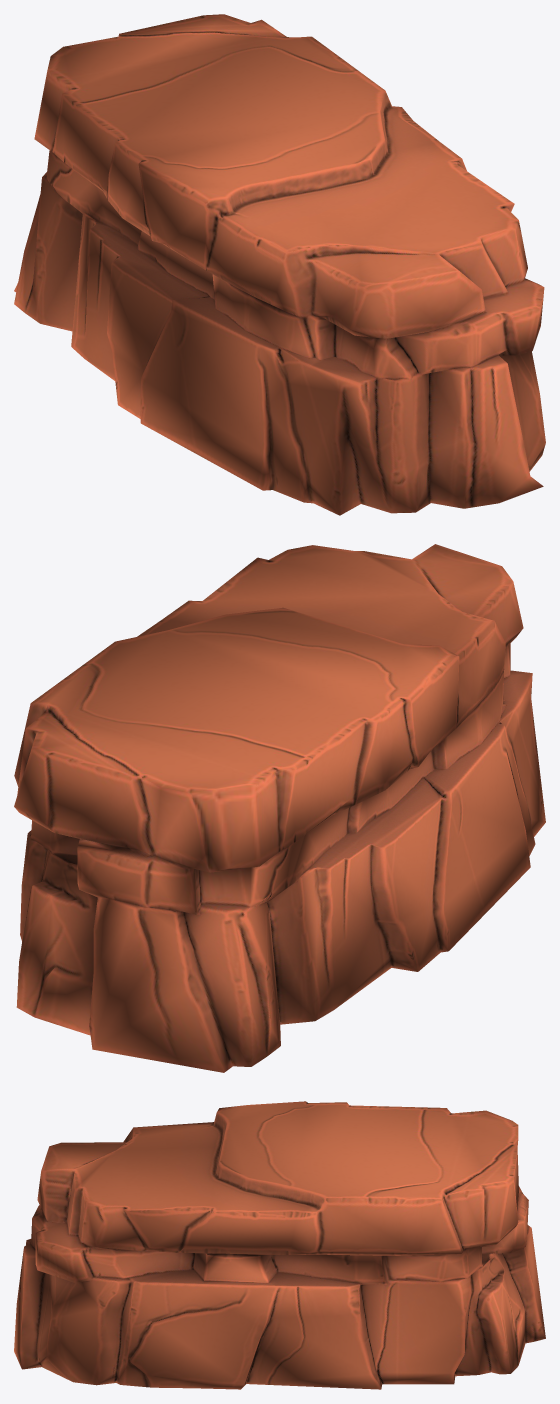
Rendered from rock_10.fbx.
3 views of the same model, one above another, from view 1: azimuth 30°, elevation 25°; view 2: azimuth 150°, elevation 25°; view 3: azimuth 270°, elevation 25° (orthographic). The views are drawn at different scales.
Visible parts, largest first — view 1: Rock_10; view 2: Rock_10; view 3: Rock_10.
Part boxes in pixels (<box>): Rock_10: <box>14,14,545,515</box>; Rock_10: <box>14,544,545,1072</box>; Rock_10: <box>14,1101,545,1389</box>.
Size of the model in its own units: 244 by 196 by 501.
Materials: 1 (1 with a texture image).
